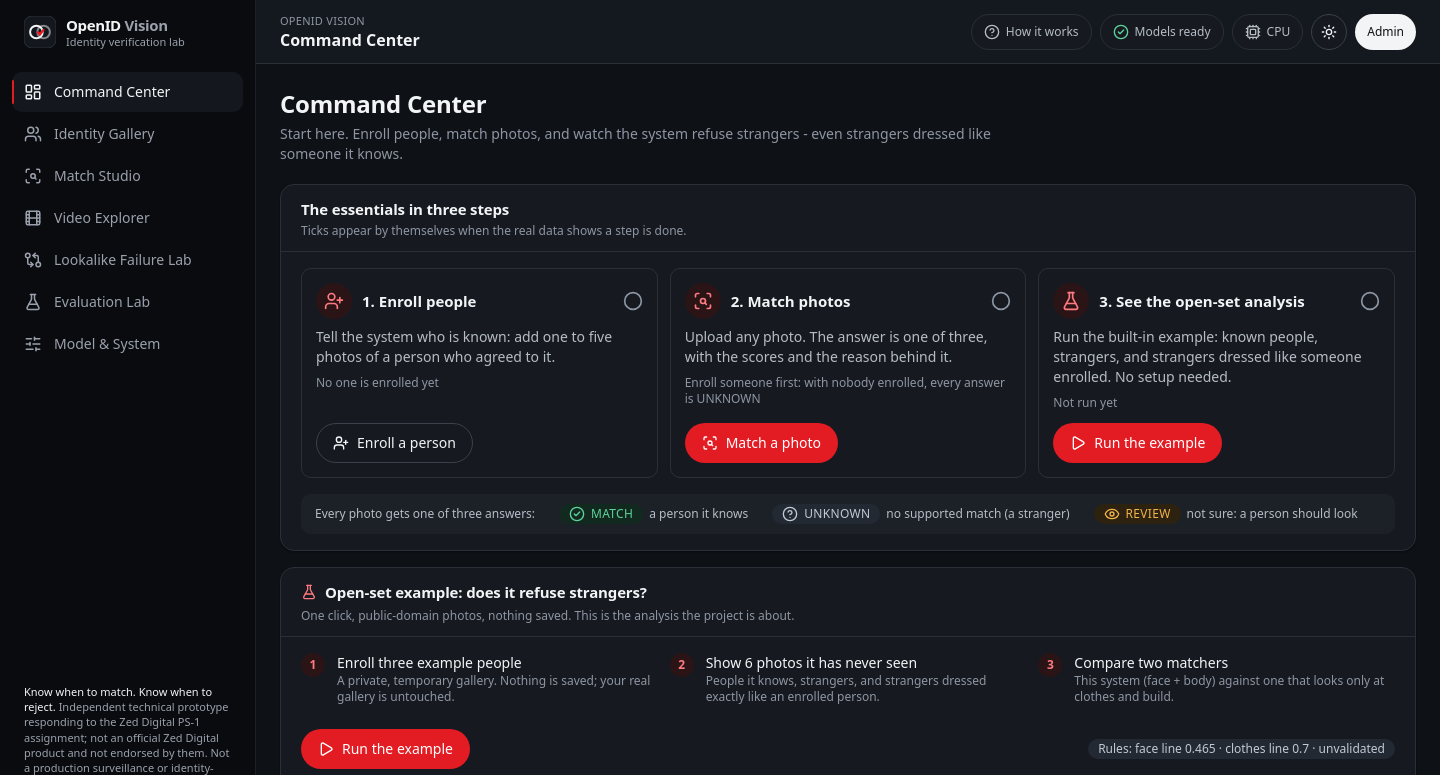
Scenario: home page: the open-set example › runs the example photo by photo and lays out the comparison
Click the button "Run the example" below "See the open-set analysis". click: (1138, 443)
box: [1053,423,1222,463]
(page scrolled)
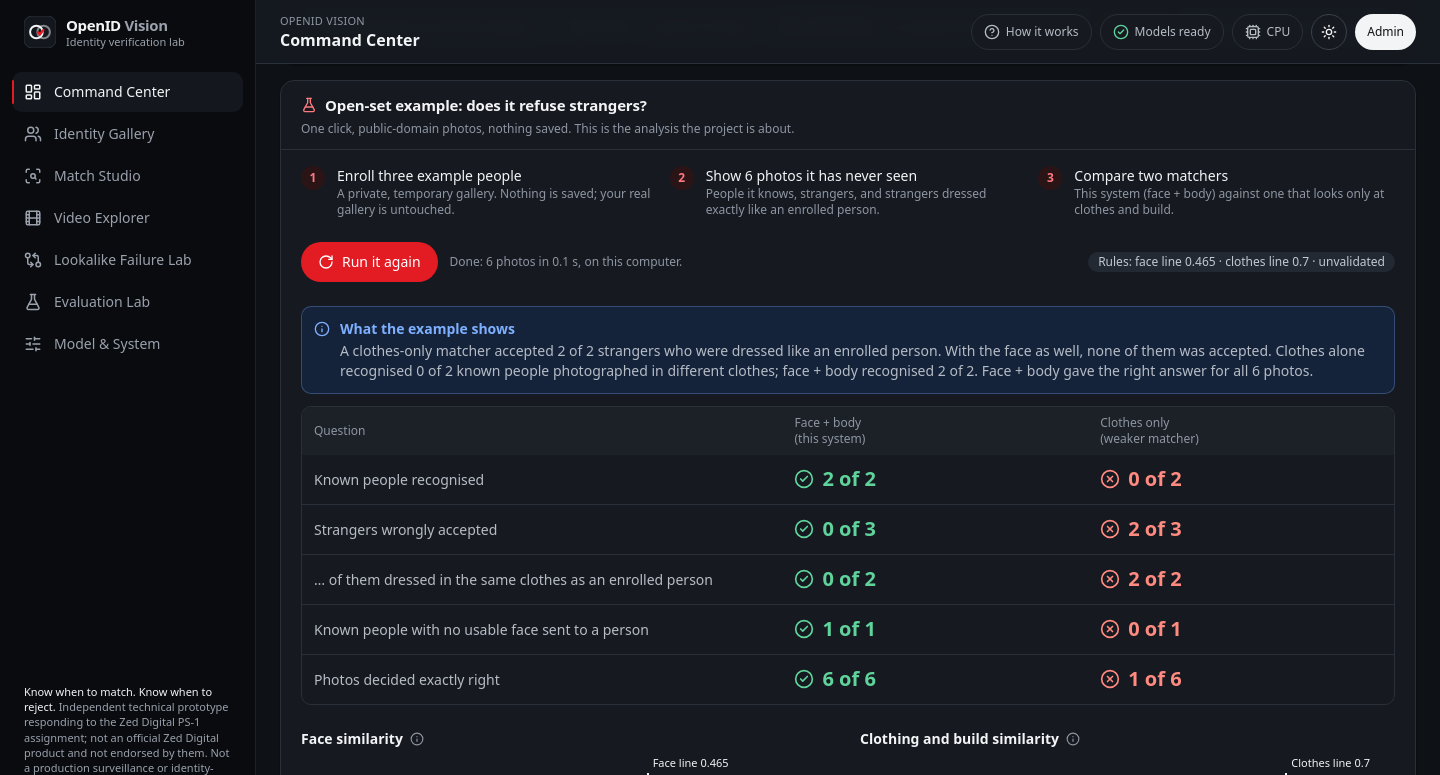
Result: the text "What the example shows" is shown at [340,319,515,338]
Result: the cells read "2 of 2 (good)", "0 of 2 (not good)", in this order at [782,455,1088,504]; [1088,455,1394,504]
Result: the cells read "0 of 3 (good)", "2 of 3 (not good)", in this order at [782,504,1088,554]; [1088,504,1394,554]
